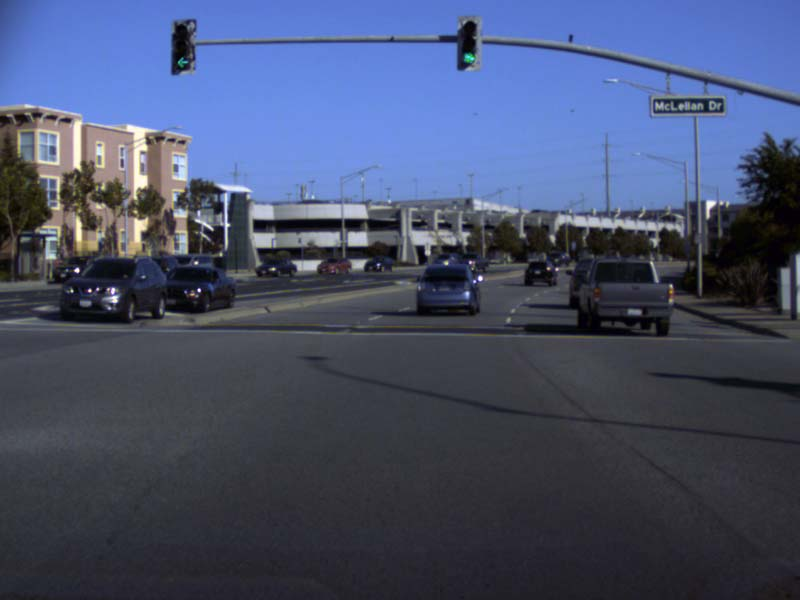Green: (456, 15, 481, 70), (171, 19, 194, 73)
